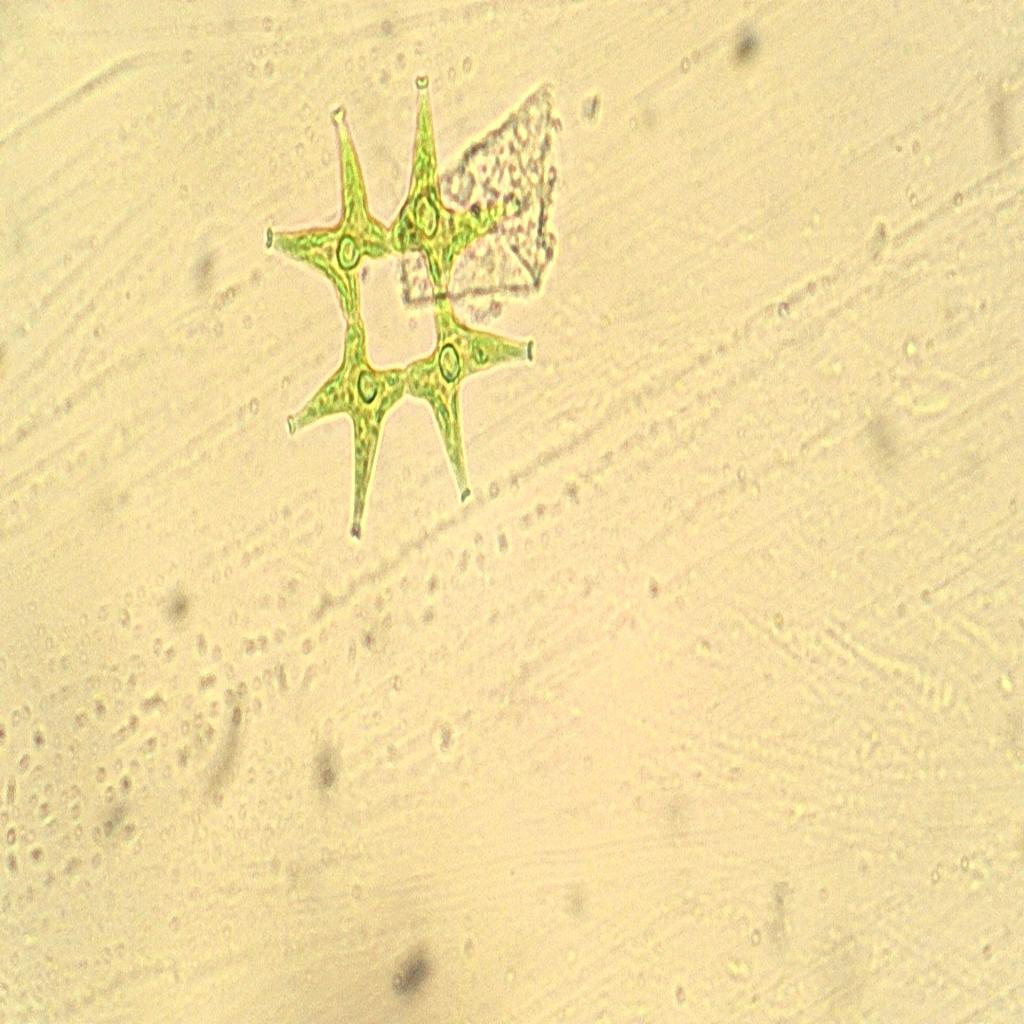Pediastrum_CO: (259, 54, 547, 554)
